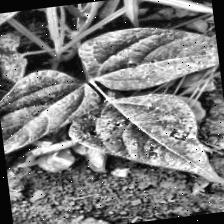ALS: (79, 88, 223, 196), (84, 17, 220, 94), (0, 67, 96, 168), (0, 4, 79, 38)
